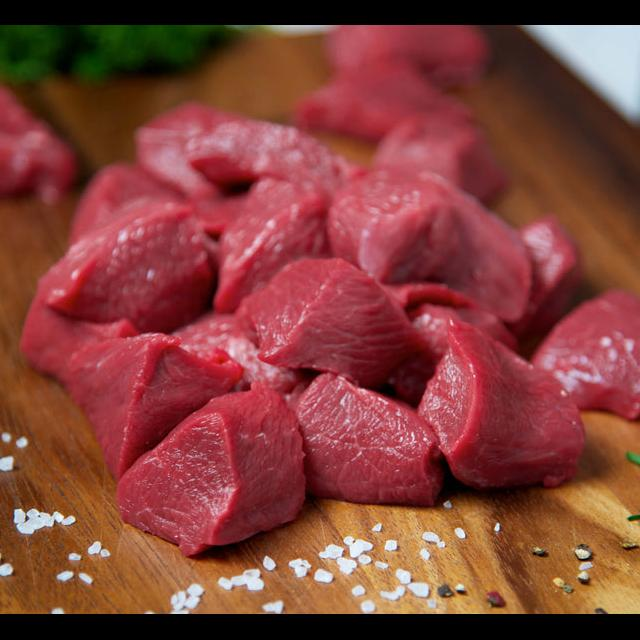beef: (11, 97, 640, 568), (280, 26, 511, 139), (0, 91, 79, 211)
